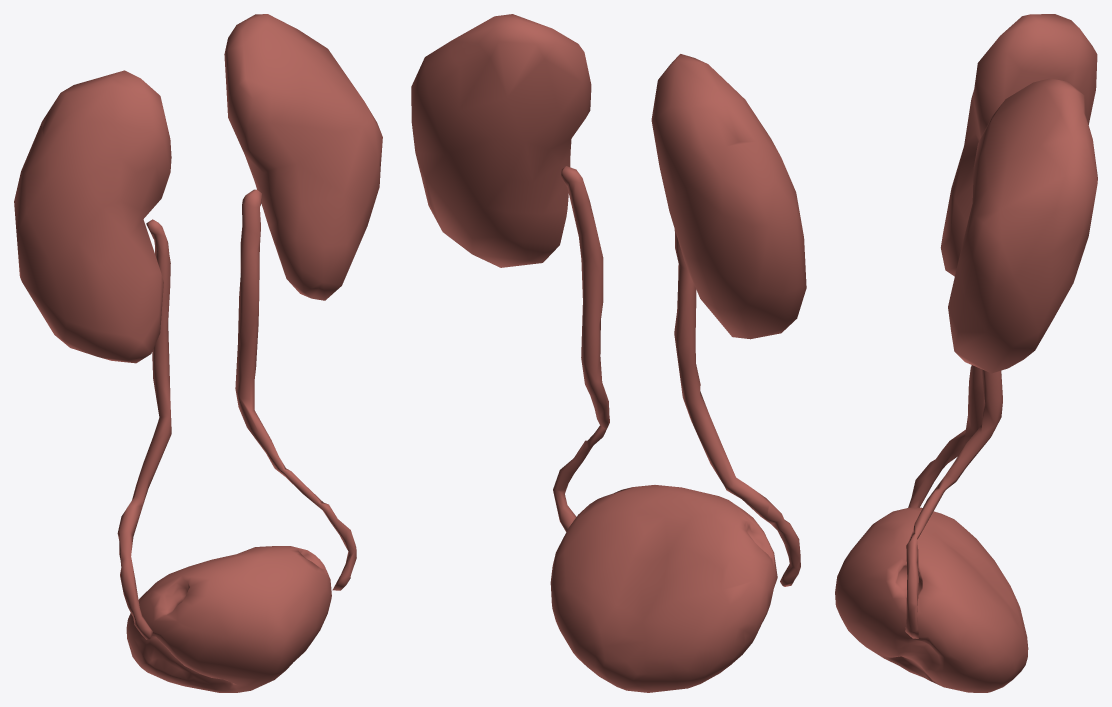
File: pediatric_infant_female.urinary.LOD1.glb
The picture shows the model from 3 angles, left to right: view 1: azimuth 30°, elevation 25°; view 2: azimuth 150°, elevation 25°; view 3: azimuth 270°, elevation 25°; orthographic projection. The views are drawn at different scales.
Visible parts, largest first — view 1: PEDIATRIC.INFANT.FEMALE.URINARY.KIDNEY_CORTEX.R, PEDIATRIC.INFANT.FEMALE.URINARY.KIDNEY_CORTEX.L, PEDIATRIC.INFANT.FEMALE.URINARY.URINARY_BLADDER_WALL, PEDIATRIC.INFANT.FEMALE.URINARY.URETER.L, PEDIATRIC.INFANT.FEMALE.URINARY.URETER.R; view 2: PEDIATRIC.INFANT.FEMALE.URINARY.URINARY_BLADDER_WALL, PEDIATRIC.INFANT.FEMALE.URINARY.KIDNEY_CORTEX.L, PEDIATRIC.INFANT.FEMALE.URINARY.KIDNEY_CORTEX.R, PEDIATRIC.INFANT.FEMALE.URINARY.URETER.L, PEDIATRIC.INFANT.FEMALE.URINARY.URETER.R; view 3: PEDIATRIC.INFANT.FEMALE.URINARY.KIDNEY_CORTEX.L, PEDIATRIC.INFANT.FEMALE.URINARY.URINARY_BLADDER_WALL, PEDIATRIC.INFANT.FEMALE.URINARY.KIDNEY_CORTEX.R, PEDIATRIC.INFANT.FEMALE.URINARY.URETER.L, PEDIATRIC.INFANT.FEMALE.URINARY.URETER.R.
Boxes of the visible parts, x1,y1,x2,y2 form: PEDIATRIC.INFANT.FEMALE.URINARY.KIDNEY_CORTEX.R: [14, 70, 171, 363]; PEDIATRIC.INFANT.FEMALE.URINARY.KIDNEY_CORTEX.L: [224, 14, 382, 300]; PEDIATRIC.INFANT.FEMALE.URINARY.URINARY_BLADDER_WALL: [126, 546, 331, 692]; PEDIATRIC.INFANT.FEMALE.URINARY.URETER.L: [235, 189, 356, 590]; PEDIATRIC.INFANT.FEMALE.URINARY.URETER.R: [117, 219, 171, 639]; PEDIATRIC.INFANT.FEMALE.URINARY.URINARY_BLADDER_WALL: [550, 485, 777, 692]; PEDIATRIC.INFANT.FEMALE.URINARY.KIDNEY_CORTEX.L: [411, 14, 591, 267]; PEDIATRIC.INFANT.FEMALE.URINARY.KIDNEY_CORTEX.R: [651, 54, 806, 339]; PEDIATRIC.INFANT.FEMALE.URINARY.URETER.L: [553, 166, 609, 531]; PEDIATRIC.INFANT.FEMALE.URINARY.URETER.R: [674, 229, 800, 586]; PEDIATRIC.INFANT.FEMALE.URINARY.KIDNEY_CORTEX.L: [948, 78, 1097, 373]; PEDIATRIC.INFANT.FEMALE.URINARY.URINARY_BLADDER_WALL: [835, 507, 1028, 692]; PEDIATRIC.INFANT.FEMALE.URINARY.KIDNEY_CORTEX.R: [940, 14, 1097, 276]; PEDIATRIC.INFANT.FEMALE.URINARY.URETER.L: [905, 369, 1002, 638]; PEDIATRIC.INFANT.FEMALE.URINARY.URETER.R: [908, 365, 984, 507].
Bounding box in the file's own units: 0.0977 × 0.1651 × 0.0613.
